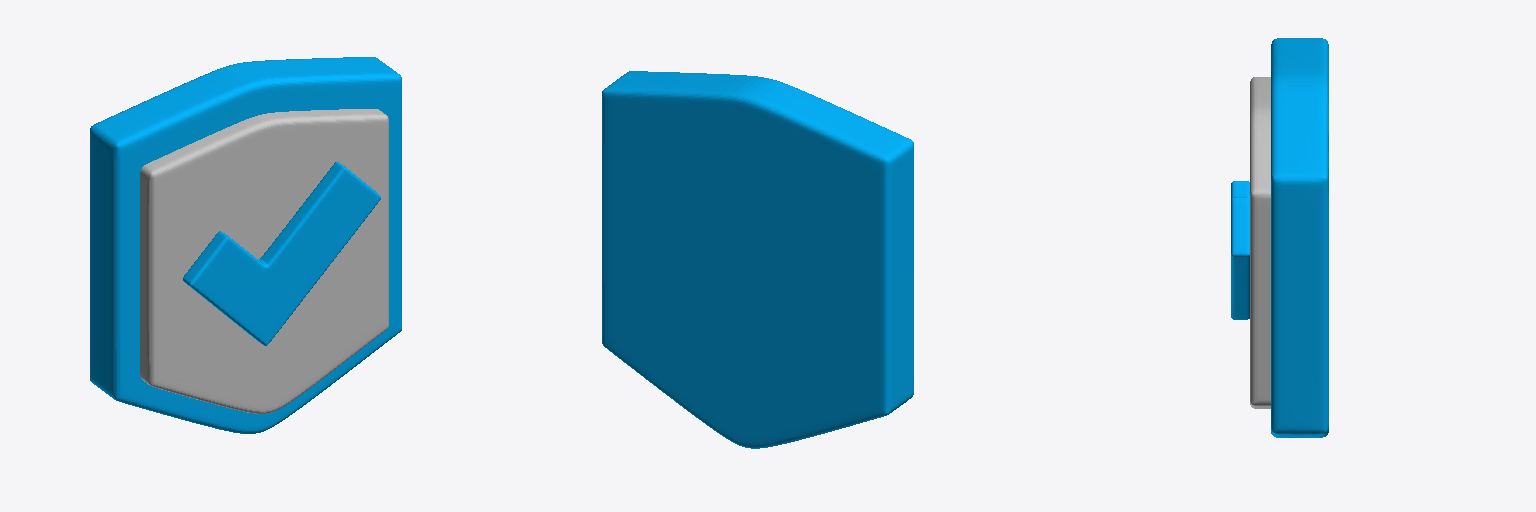
Rendered from correct.obj.
3 views of the same model, side by side, from view 1: azimuth 30°, elevation 25°; view 2: azimuth 150°, elevation 25°; view 3: azimuth 270°, elevation 25° (orthographic).
Parts seen in each view (by area): view 1: 平面.001, 平面, 立方体; view 2: 平面; view 3: 平面, 平面.001, 立方体.
Boxes of the visible parts, x1,y1,x2,y2 form: 平面.001: [140, 109, 388, 413]; 平面: [90, 57, 401, 433]; 立方体: [183, 162, 380, 345]; 平面: [602, 71, 913, 448]; 平面: [1271, 38, 1328, 437]; 平面.001: [1250, 77, 1270, 408]; 立方体: [1231, 181, 1249, 319].
Size of the model in its own units: 2 by 2.33 by 0.5871.